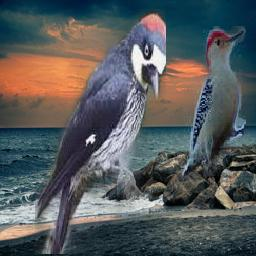Woodpecker: (36, 10, 167, 255), (180, 26, 246, 180)
